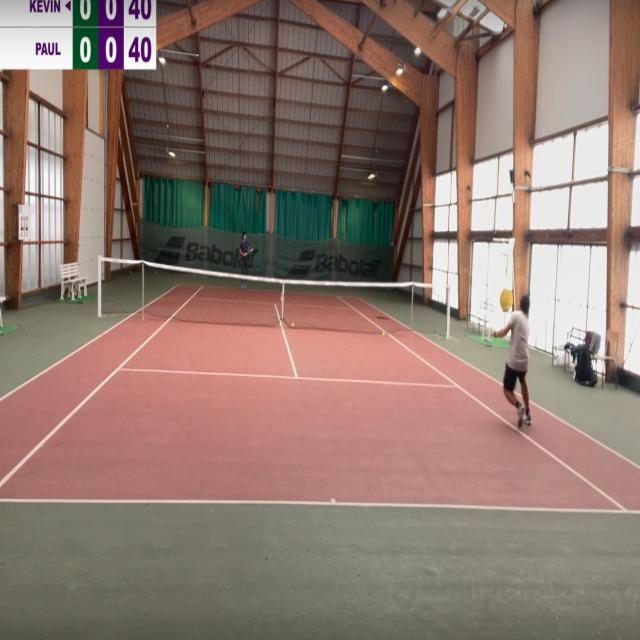ball: (382, 331, 385, 337), (292, 322, 294, 328)
